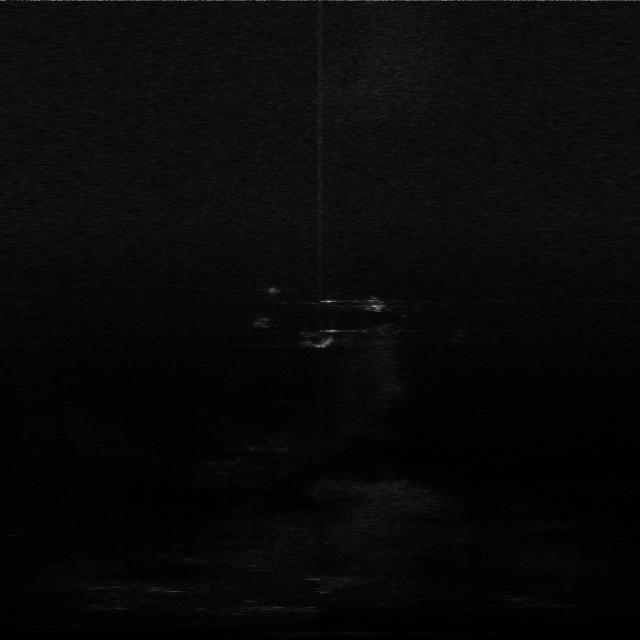rov: (363, 297, 391, 314)
